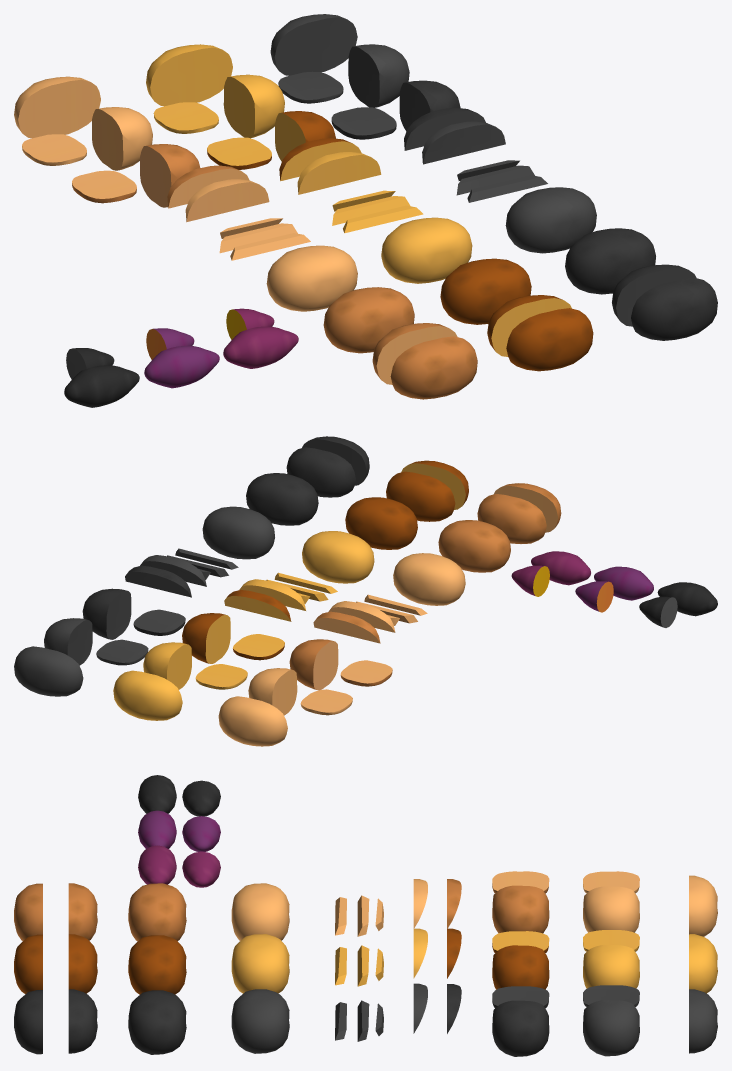
The model's file is potato.fbx.
The picture shows the model from 3 angles, top to bottom: view 1: azimuth 30°, elevation 25°; view 2: azimuth 150°, elevation 25°; view 3: azimuth 270°, elevation 25°; orthographic projection. The views are drawn at different scales.
Parts seen in each view (by area): view 1: potato_Peeled_Cooked, potato_Peeled_Burnt, potato_Peeled, potato, potato_Burnt, potato_Cooked, potato_Half_1, potato_Half_1_Burnt, potato_Half_1_Cooked, potato_Peeled_Half_1_Burnt, potato_Peeled_Half_1_Cooked, potato_Peeled_Half_1 (+33 smaller); view 2: potato_Peeled_Burnt, potato_Peeled_Cooked, potato_Peeled, potato, potato_Burnt, potato_Cooked, potato_Peeled_Half_1, potato_Peeled_Half_1_Burnt, potato_Peeled_Half_1_Cooked, potato_Half_2_Burnt, potato_Half_2_Cooked, potato_Half_2 (+29 smaller); view 3: potato_Peeled_Burnt, potato_Burnt, potato_Peeled_Cooked, potato_Cooked, potato, potato_Half_Burnt, potato_Peeled_Half_Burnt, potato_Peeled, potato_Half, potato_Peeled_Half, potato_Half_Cooked, potato_Peeled_Half_Cooked (+27 smaller).
Part boxes in pixels (x1,y1,x2,y2): potato_Peeled_Cooked: (381,217,472,283); potato_Peeled_Burnt: (505,187,596,253); potato_Peeled: (266,245,357,311); potato: (323,287,414,353); potato_Burnt: (565,228,655,294); potato_Cooked: (440,258,531,324); potato_Half_1: (390,336,477,399); potato_Half_1_Burnt: (631,277,717,340); potato_Half_1_Cooked: (506,308,593,371); potato_Peeled_Half_1_Burnt: (270,14,357,75); potato_Peeled_Half_1_Cooked: (146,44,232,106); potato_Peeled_Half_1: (14,76,100,138); potato_Peeled_Burnt: (202,506,274,559); potato_Peeled_Cooked: (302,531,374,583); potato_Peeled: (393,553,465,605); potato: (438,520,510,572); potato_Burnt: (246,473,318,525); potato_Cooked: (345,497,417,549); potato_Peeled_Half_1: (218,696,287,746); potato_Peeled_Half_1_Burnt: (14,646,83,696); potato_Peeled_Half_1_Cooked: (113,670,182,720); potato_Half_2_Burnt: (286,447,355,497); potato_Half_2_Cooked: (386,471,455,521); potato_Half_2: (477,494,546,543); potato_Peeled_Burnt: (231,989,289,1053); potato_Burnt: (128,990,186,1054); potato_Peeled_Cooked: (231,934,289,993); potato_Cooked: (128,935,186,994); potato: (128,883,186,941); potato_Half_Burnt: (492,1000,549,1056); potato_Peeled_Half_Burnt: (583,1000,639,1056); potato_Peeled: (231,883,289,940); potato_Half: (492,885,549,933); potato_Peeled_Half: (583,886,639,932); potato_Half_Cooked: (492,945,549,989); potato_Peeled_Half_Cooked: (583,945,639,988).
Bounding box in the file's own units: 11.38 × 12.94 × 1.07.
1 material, 1 textured.
